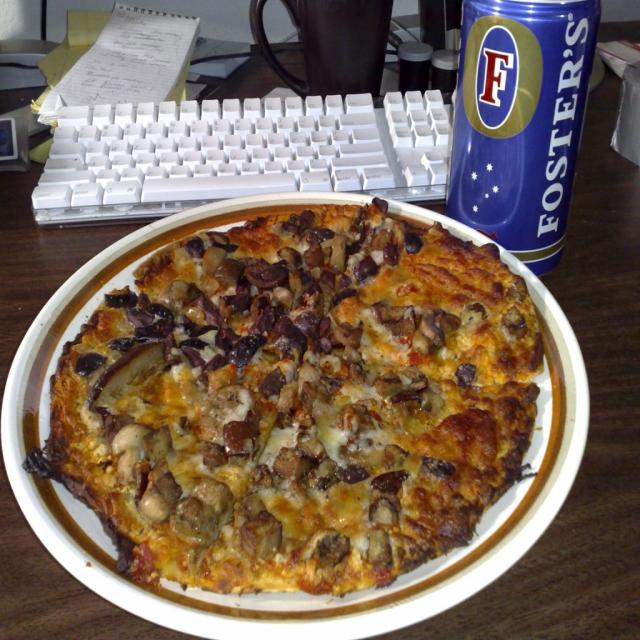fosters: (461, 13, 545, 143)
